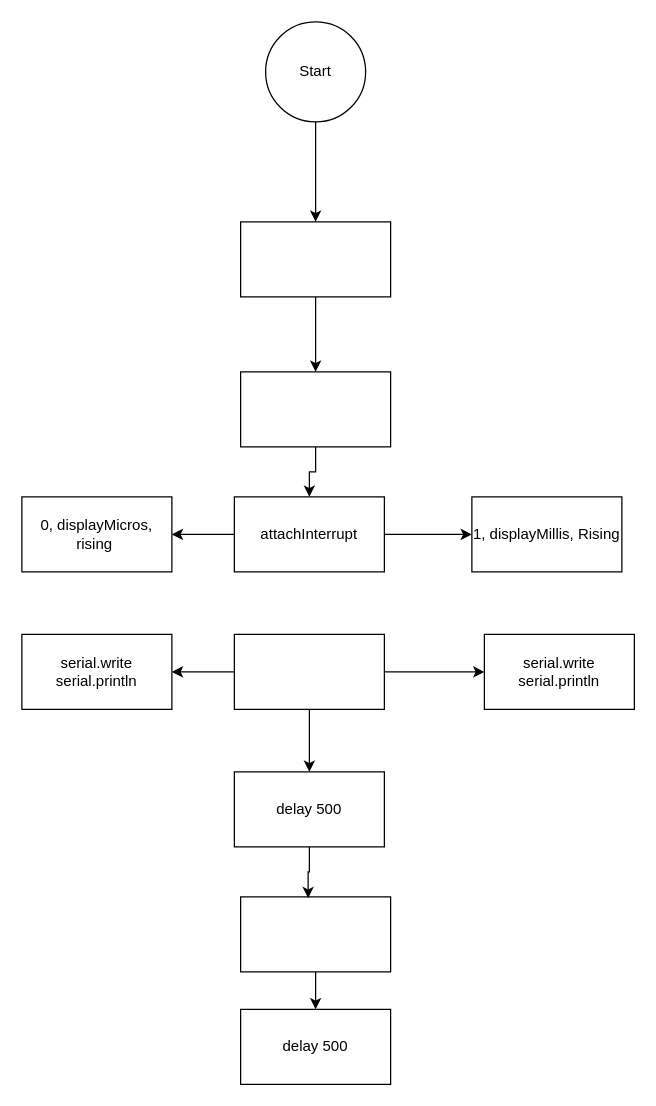
Some shapes in this 656 by 1106 pixel diagram are drawn without their labels. The centre of each missing label's shape, as x and y in pixels:
#define LED 13: (x=315, y=259)
LED LOW: (x=315, y=934)
LED, HIGH: (x=308, y=671)
set up pin 13: (x=315, y=409)
